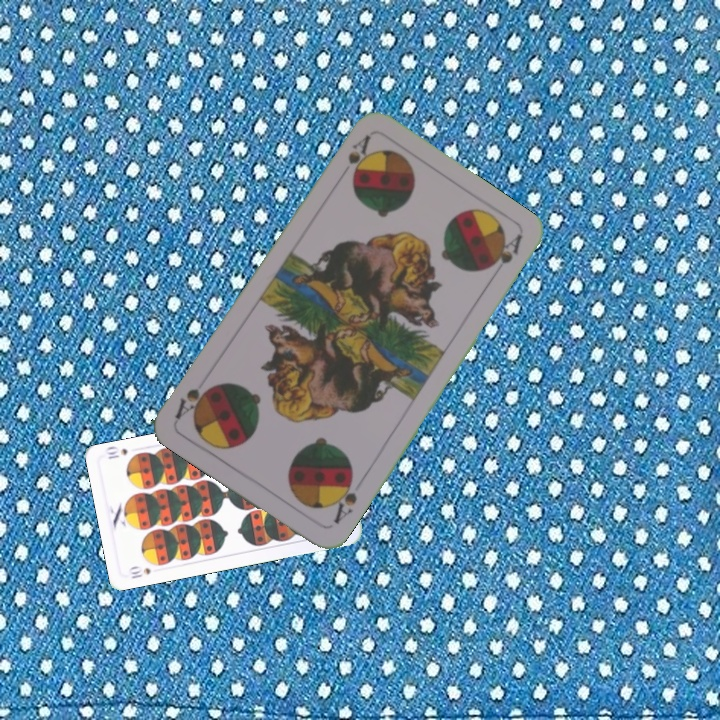S10: (125, 562, 154, 581)
SA: (326, 471, 360, 527), (343, 130, 376, 186)
